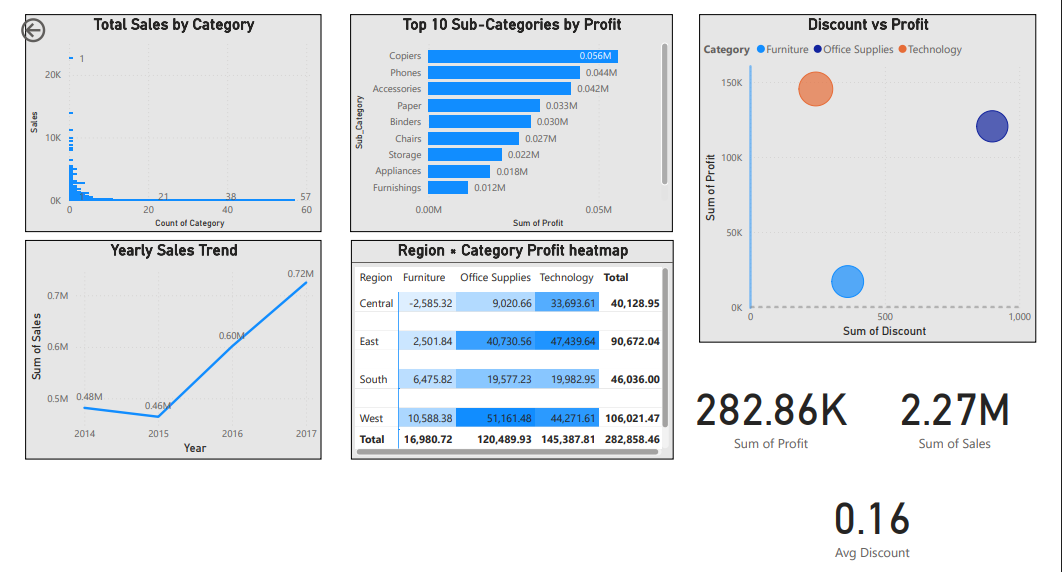

Layout of this report page (visuals, bound fields, positions):
{"tool":"powerbi","page":{"name":"Page 1","canvas":[1280,720],"ordinal":0},"visuals":[{"type":"clusteredBarChart","title":"Total Sales by Category","fields":{"Y":["CountNonNull(ecommerce_sales superstore.Category)"],"Category":["ecommerce_sales superstore.Sales"]},"box":[10.1,0,369.6,272.1],"z":0},{"type":"lineChart","title":"Yearly Sales Trend","fields":{"Category":["ecommerce_sales superstore.Order_Date.Variation.Date Hierarchy.Year"],"Y":["Sum(ecommerce_sales superstore.Sales)"]},"box":[10.1,282.2,369.6,273.8],"z":1000},{"type":"clusteredBarChart","title":"Top 10 Sub-Categories by Profit","fields":{"Category":["ecommerce_sales superstore.Sub_Category"],"Y":["Sum(ecommerce_sales superstore.Profit)"]},"box":[416.2,0,403.2,272.2],"z":2000},{"type":"pivotTable","title":"Region × Category Profit heatmap","fields":{"Rows":["ecommerce_sales superstore.Region"],"Columns":["ecommerce_sales superstore.Category"],"Values":["Sum(ecommerce_sales superstore.Profit)"]},"box":[416.6,282.2,403.1,273.8],"z":2001},{"type":"actionButton","box":[0,0,100,40],"z":2002},{"type":"scatterChart","title":"Discount vs Profit","fields":{"X":["Sum(ecommerce_sales superstore.Discount)"],"Y":["Sum(ecommerce_sales superstore.Profit)"],"Size":["Sum(ecommerce_sales superstore.Sales)"],"Series":["ecommerce_sales superstore.Category"]},"box":[852.5,0,420.5,410.4],"z":2003},{"type":"card","fields":{"Values":["Sum(ecommerce_sales superstore.Profit)"]},"box":[836.5,419.9,210,154.5],"z":2004},{"type":"card","fields":{"Values":["Sum(ecommerce_sales superstore.Sales)"]},"box":[1063.3,419.9,216.7,154.5],"z":2005},{"type":"card","fields":{"Values":["ecommerce_sales superstore.Avg Discount"]},"box":[930.2,555.8,276.5,154.1],"z":2006}]}

Visuals, with their boxes in screenshot pixels (x1, y1, x2, y2):
"Total Sales by Category" clusteredBarChart: <bbox>27, 11, 317, 224</bbox>
"Yearly Sales Trend" lineChart: <bbox>27, 232, 317, 447</bbox>
"Top 10 Sub-Categories by Profit" clusteredBarChart: <bbox>346, 11, 662, 225</bbox>
"Region × Category Profit heatmap" pivotTable: <bbox>346, 232, 662, 447</bbox>
actionButton: <bbox>19, 11, 98, 42</bbox>
"Discount vs Profit" scatterChart: <bbox>688, 11, 1018, 333</bbox>
card - Sum(ecommerce_sales superstore.Profit): <bbox>675, 340, 840, 461</bbox>
card - Sum(ecommerce_sales superstore.Sales): <bbox>853, 340, 1023, 461</bbox>
card - ecommerce_sales superstore.Avg Discount: <bbox>749, 447, 966, 568</bbox>
